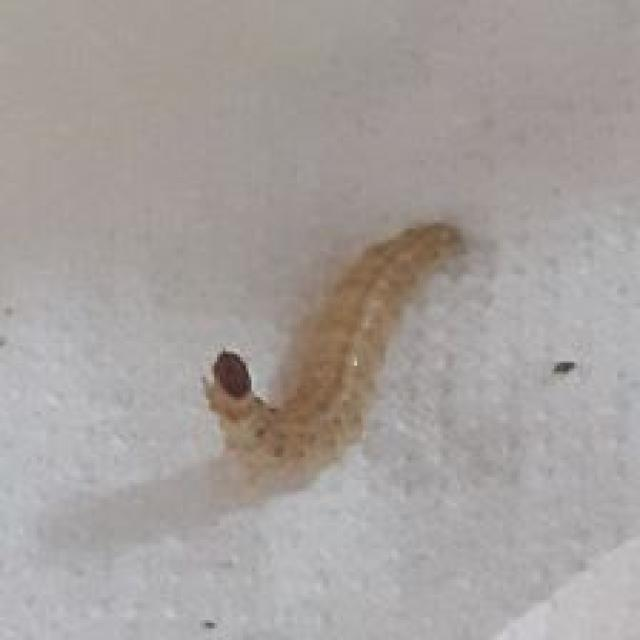white mucus: (156, 217, 484, 501)
